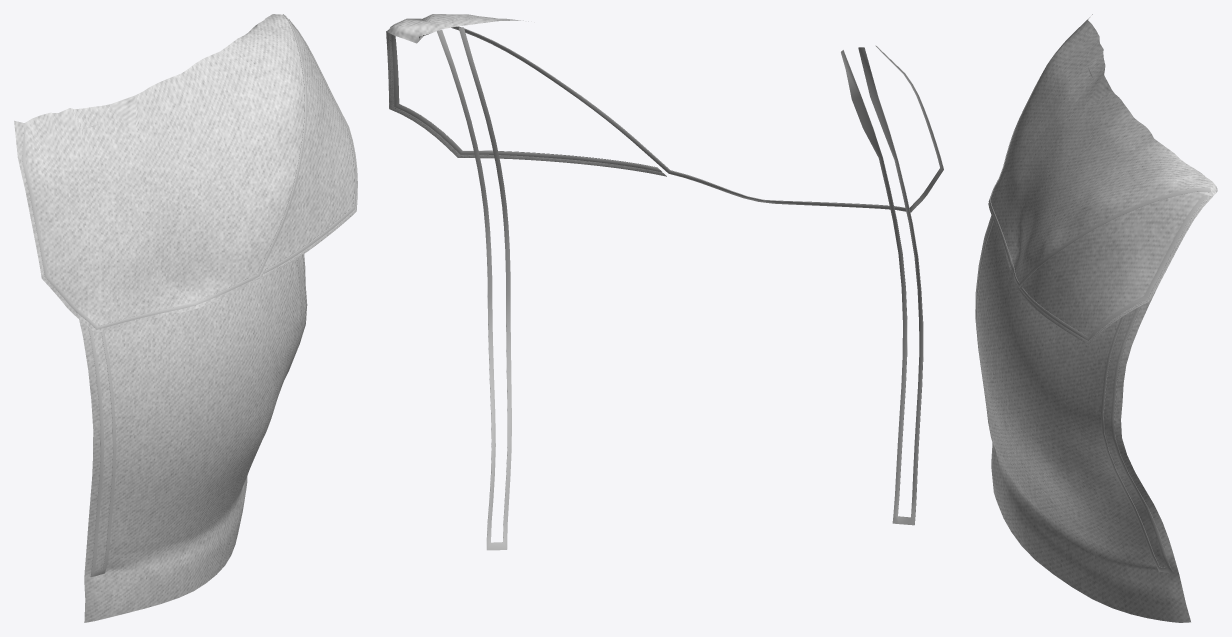
File: Jac_Pocket_RIGHT_V2.glb
3 views of the same model, side by side, from view 1: azimuth 30°, elevation 25°; view 2: azimuth 150°, elevation 25°; view 3: azimuth 270°, elevation 25° (orthographic). The views are drawn at different scales.
Parts seen in each view (by area): view 1: Jac_Pocket_RIGHT_V21, Rope1; view 2: Rope1, Jac_Pocket_RIGHT_V21; view 3: Jac_Pocket_RIGHT_V21, Rope1.
Boxes of the visible parts, box(x1,y1,x2,y2) form: Jac_Pocket_RIGHT_V21: box(14, 14, 357, 622); Rope1: box(21, 14, 356, 576); Rope1: box(390, 18, 943, 550); Jac_Pocket_RIGHT_V21: box(386, 14, 666, 176); Jac_Pocket_RIGHT_V21: box(976, 14, 1217, 622); Rope1: box(975, 20, 1211, 573).
Size of the model in its own units: 0.2127 by 0.2686 by 0.1213.
Materials: 2 (2 with a texture image).
